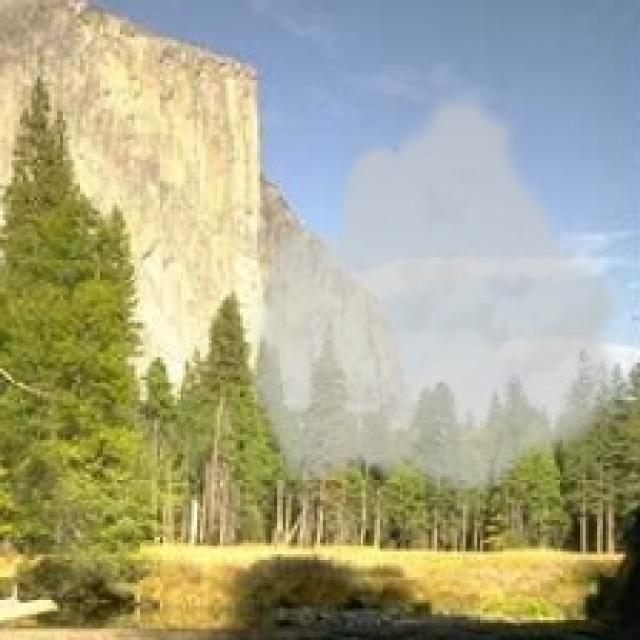Smoke: (246, 83, 632, 500)
